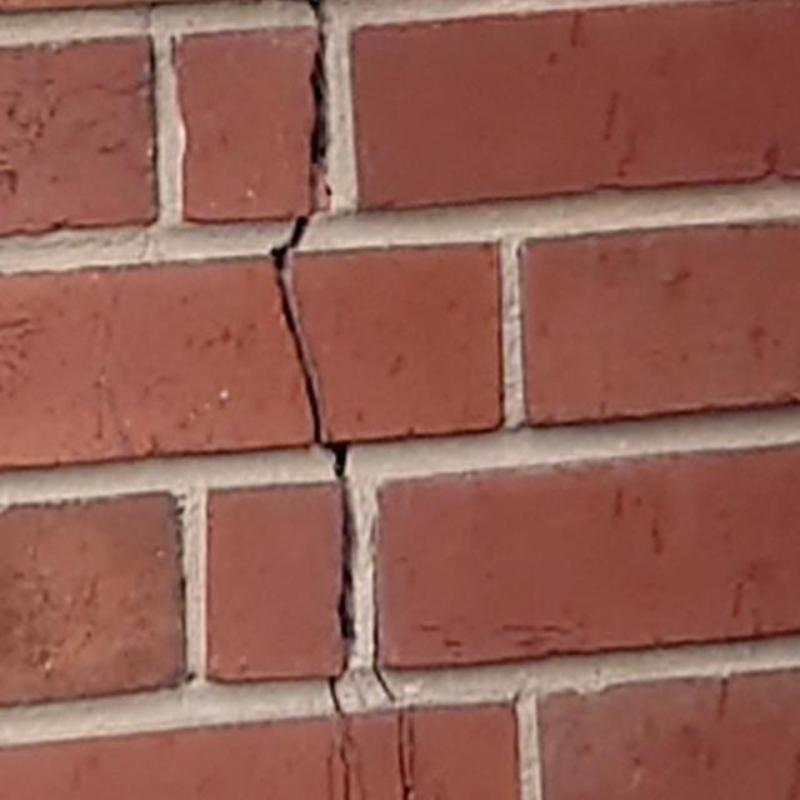pothole: (270, 216, 347, 477), (330, 477, 355, 712), (307, 0, 325, 166), (373, 617, 395, 703), (398, 709, 411, 799), (338, 727, 352, 800)
